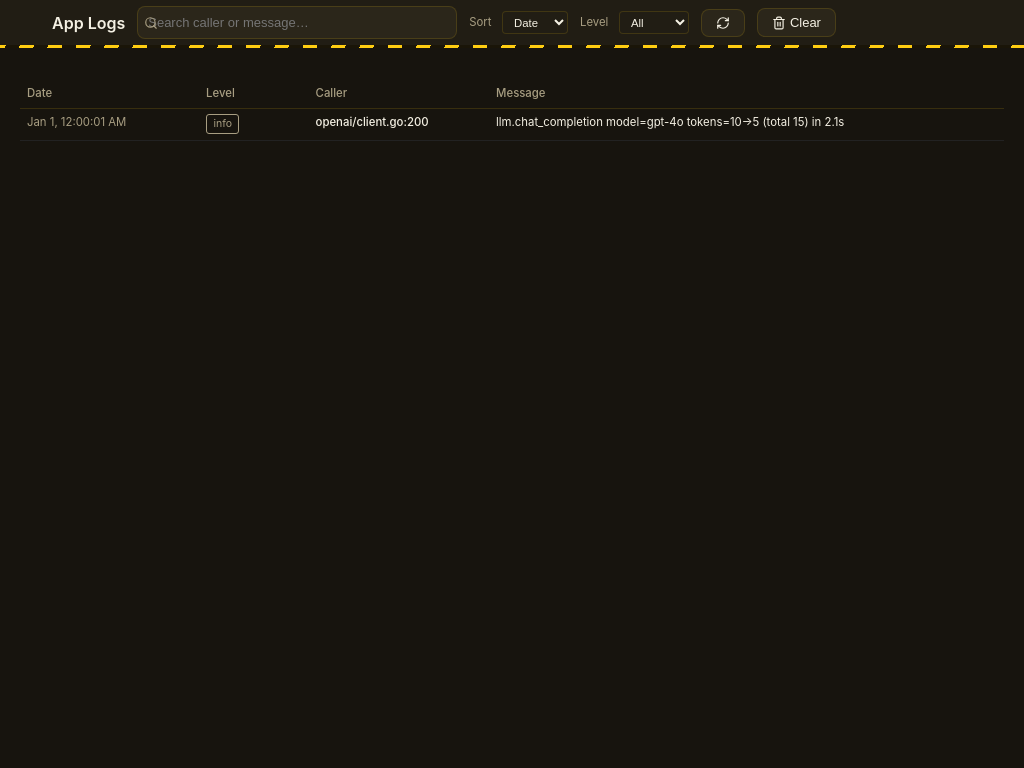
Test: AppLogsPage › opens the detail modal with the full request when a row is clicked
The width and height of the screenshot is (1024, 768).
Click the text "llm.chat_completion" at (747, 124), box [489,108,1004,140]
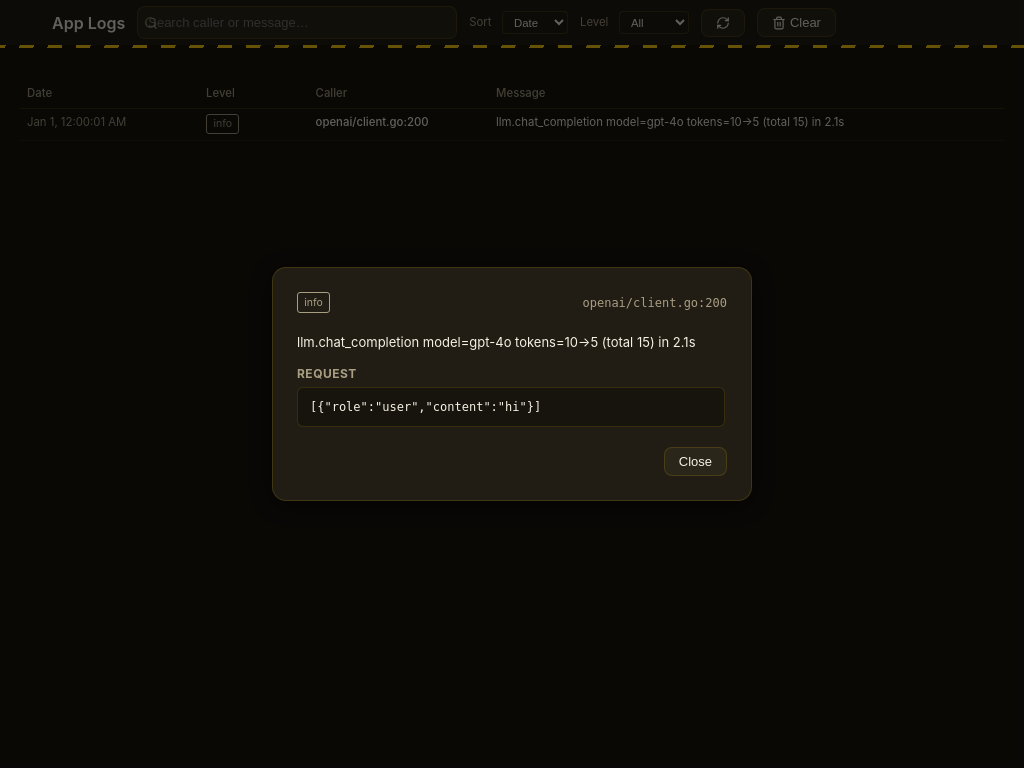
Now the dialog is shown, box [272,268,752,500]
Now the text "[{\"role\":\"user\",\"content\":\"hi\"}]" is shown, box [297,386,725,426]
